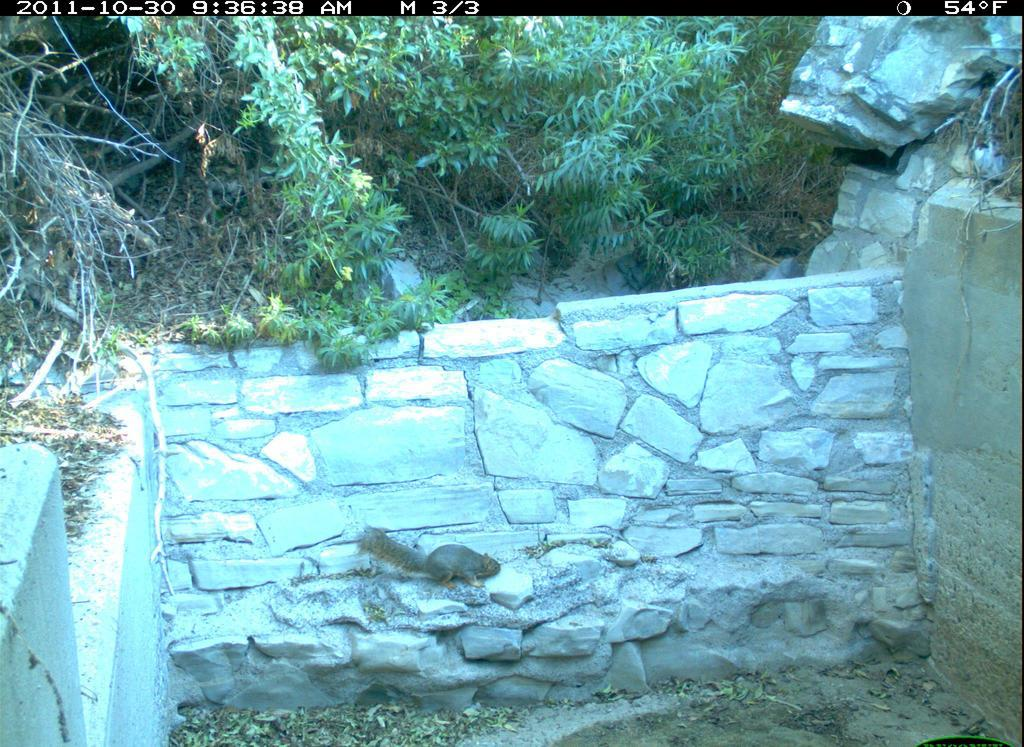squirrel: (353, 519, 505, 592)
